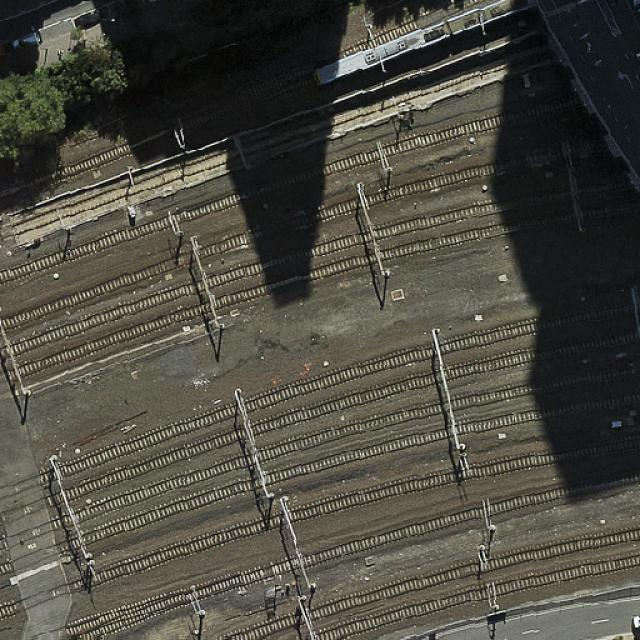Bike-Symbols: (610, 25, 621, 36)
